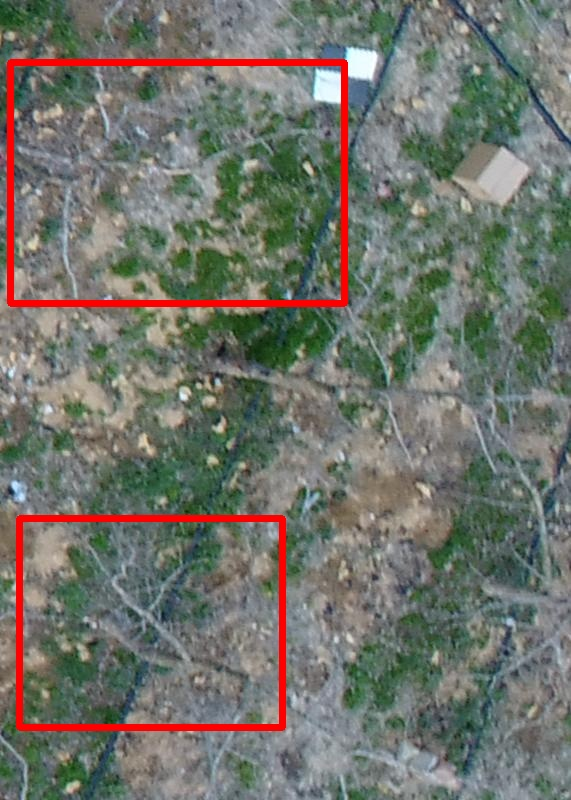apple: (10, 62, 344, 303), (19, 518, 282, 727)
